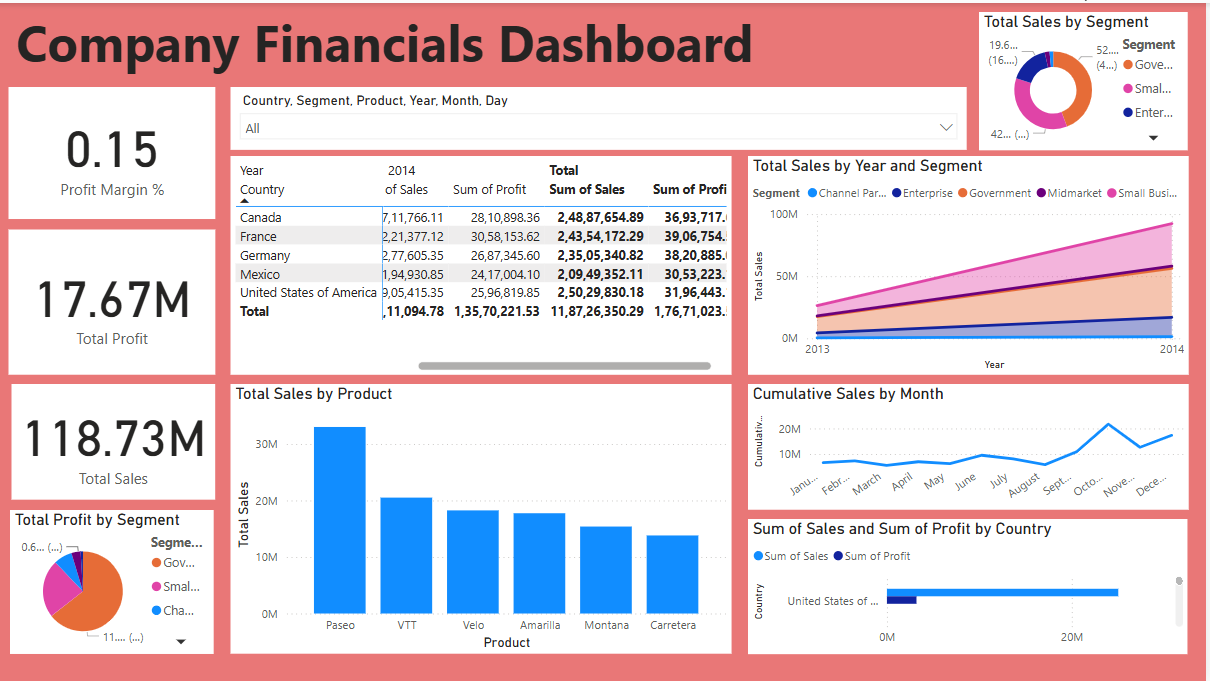

The page's visual inventory and layout, read from the dashboard file:
{"tool":"powerbi","page":{"name":"Page 1","canvas":[1280,720],"ordinal":0},"visuals":[{"type":"card","fields":{"Values":["Financials.Total Sales"]},"box":[14.3,404,216.3,122.5],"z":0},{"type":"card","fields":{"Values":["Financials.Total Profit"]},"box":[11.1,240.2,219.5,154.3],"z":1000},{"type":"card","fields":{"Values":["Financials.Profit Margin %"]},"box":[11.1,89.1,219.5,140],"z":2000},{"type":"lineChart","fields":{"Category":["Financials.Date.Variation.Date Hierarchy.Month"],"Y":["Financials.Cumulative Sales"]},"box":[795.3,404,467.6,133.6],"z":3000},{"type":"clusteredBarChart","fields":{"Y":["Sum(Financials.Sales)","Sum(Financials.Profit)"],"Category":["Financials.Country"]},"box":[795.3,547.2,466,143.2],"z":4000},{"type":"pieChart","fields":{"Category":["Financials.Segment"],"Y":["Financials.Total Profit"]},"box":[12.7,537.6,216.3,152.7],"z":5000},{"type":"columnChart","fields":{"Category":["Financials.Product"],"Y":["Financials.Total Sales"]},"box":[246.5,404,531.3,286.3],"z":6000},{"type":"stackedAreaChart","fields":{"Category":["Financials.Date.Variation.Date Hierarchy.Year","Financials.Date.Variation.Date Hierarchy.Quarter","Financials.Date.Variation.Date Hierarchy.Month","Financials.Date.Variation.Date Hierarchy.Day"],"Series":["Financials.Segment"],"Y":["Financials.Total Sales"]},"box":[795.3,162.2,467.6,232.2],"z":7000},{"type":"pivotTable","fields":{"Rows":["Financials.Country"],"Columns":["Financials.Year"],"Values":["Sum(Financials.Sales)","Sum(Financials.Profit)"]},"box":[246.5,162.2,531.3,232.2],"z":8000},{"type":"slicer","fields":{"Values":["Financials.Country","Financials.Segment","Financials.Product","Financials.Year","Financials.Date.Variation.Date Hierarchy.Month","Financials.Date.Variation.Date Hierarchy.Day"]},"box":[246.5,89.1,781,66.8],"z":9000},{"type":"donutChart","fields":{"Category":["Financials.Segment"],"Y":["Financials.Total Sales"]},"box":[1040.3,9.5,221.1,146.3],"z":10000},{"type":"textbox","box":[14.3,0,800.1,82.7],"z":11000}]}

Visuals, with their boxes in screenshot pixels (x1, y1, x2, y2), scaled from the page's 1280x720 canvas onto the 1210x681 screenshot:
card - Financials.Total Sales: select_region(14, 382, 218, 498)
card - Financials.Total Profit: select_region(10, 227, 218, 373)
card - Financials.Profit Margin %: select_region(10, 84, 218, 217)
lineChart - Financials.Date.Variation.Date Hierarchy.Month x Financials.Cumulative Sales: select_region(752, 382, 1194, 508)
clusteredBarChart - Sum(Financials.Sales) x Sum(Financials.Profit): select_region(752, 518, 1192, 653)
pieChart - Financials.Segment x Financials.Total Profit: select_region(12, 508, 216, 653)
columnChart - Financials.Product x Financials.Total Sales: select_region(233, 382, 735, 653)
stackedAreaChart - Financials.Date.Variation.Date Hierarchy.Year x Financials.Date.Variation.Date Hierarchy.Quarter: select_region(752, 153, 1194, 373)
pivotTable - Financials.Country x Financials.Year: select_region(233, 153, 735, 373)
slicer - Financials.Country x Financials.Segment: select_region(233, 84, 971, 147)
donutChart - Financials.Segment x Financials.Total Sales: select_region(983, 9, 1192, 147)
textbox: select_region(14, 0, 770, 78)
